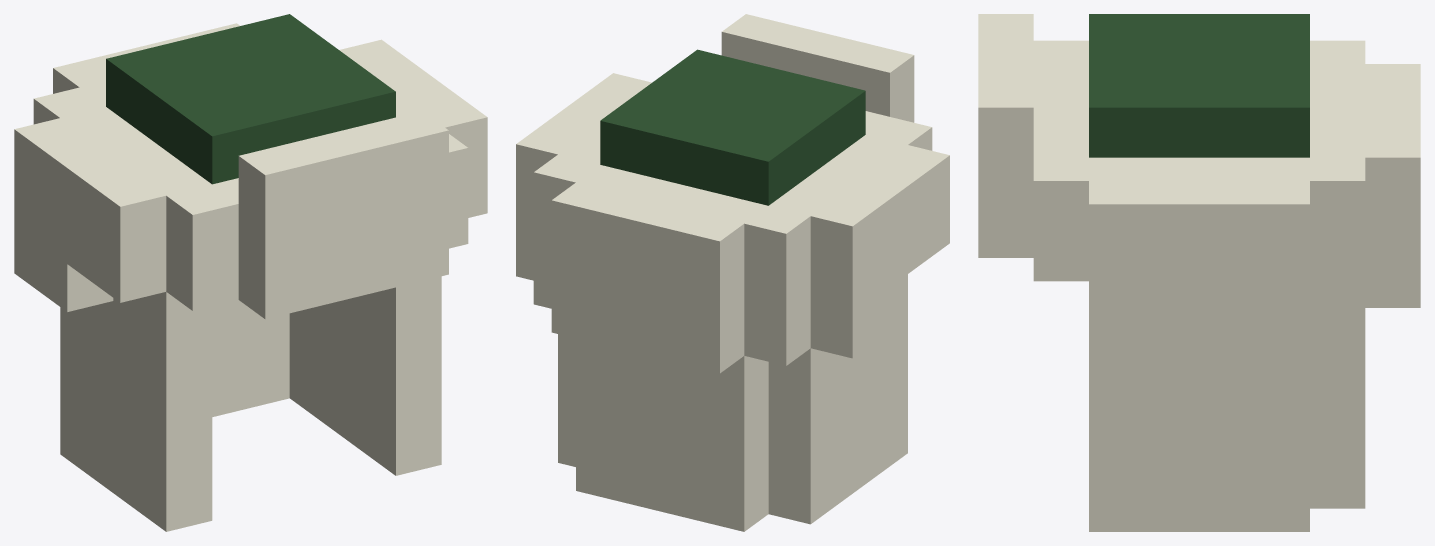
Rendered from humanoid-179-helm_lgt_2d_sh.obj.
The picture shows the model from 3 angles, left to right: view 1: azimuth 30°, elevation 25°; view 2: azimuth 150°, elevation 25°; view 3: azimuth 270°, elevation 25°; orthographic projection. The views are drawn at different scales.
Parts seen in each view (by area): view 1: helm_lgt_2d_sh; view 2: helm_lgt_2d_sh; view 3: helm_lgt_2d_sh.
Part boxes in pixels (x1,y1,x2,y2): helm_lgt_2d_sh: (14,14,487,531); helm_lgt_2d_sh: (516,14,949,531); helm_lgt_2d_sh: (978,14,1420,531).
Bounding box in the file's own units: 0.8 × 0.8 × 0.8.
Materials: 1 (1 with a texture image).
